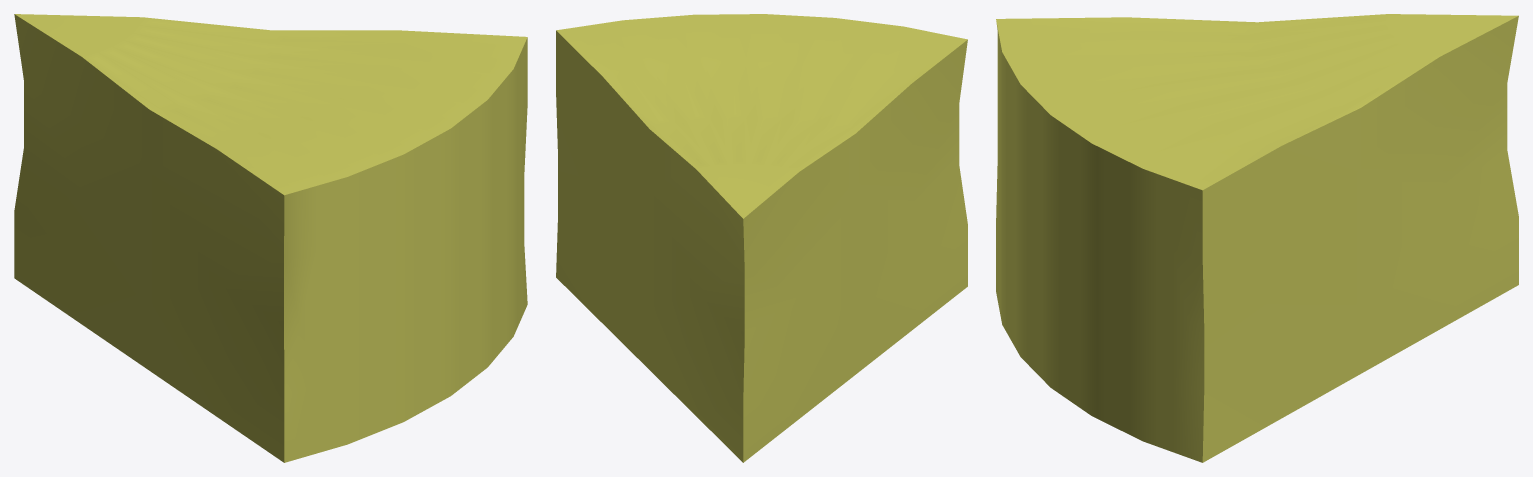
The model's file is prop_Queso_Low.fbx.
3 renders of one model, left to right at view 1: azimuth 30°, elevation 25°; view 2: azimuth 150°, elevation 25°; view 3: azimuth 270°, elevation 25°, orthographic. The views are drawn at different scales.
Parts seen in each view (by area): view 1: pCylinder6; view 2: pCylinder6; view 3: pCylinder6.
Boxes of the visible parts, <box> form: pCylinder6: <box>14,14,527,462</box>; pCylinder6: <box>556,14,967,462</box>; pCylinder6: <box>996,14,1518,462</box>.
Bounding box in the file's own units: 11.9 × 8.5 × 14.78.
